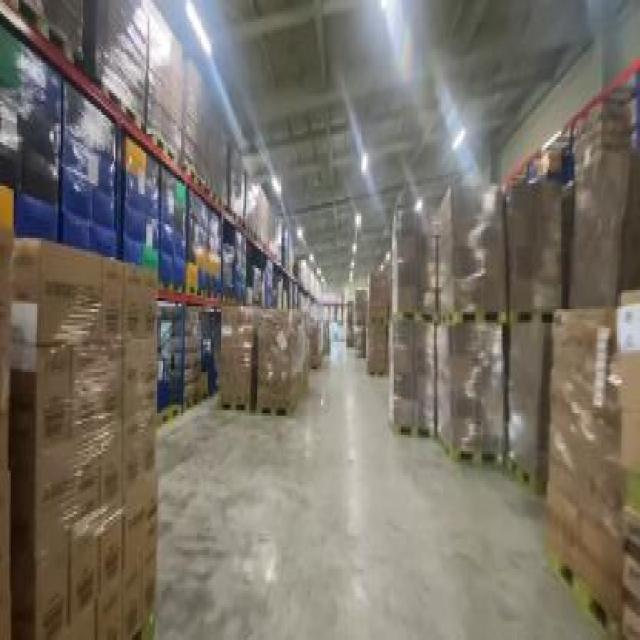box: (8, 213, 160, 638), (384, 180, 556, 490), (538, 287, 638, 637), (558, 104, 638, 304), (1, 30, 64, 233), (102, 2, 185, 148), (217, 298, 306, 416), (60, 82, 123, 243), (157, 167, 221, 290), (148, 296, 212, 410), (183, 58, 228, 202), (343, 262, 392, 378), (117, 131, 158, 268), (226, 145, 280, 249), (280, 219, 323, 290), (247, 249, 276, 309), (223, 224, 246, 298), (300, 320, 332, 366)
